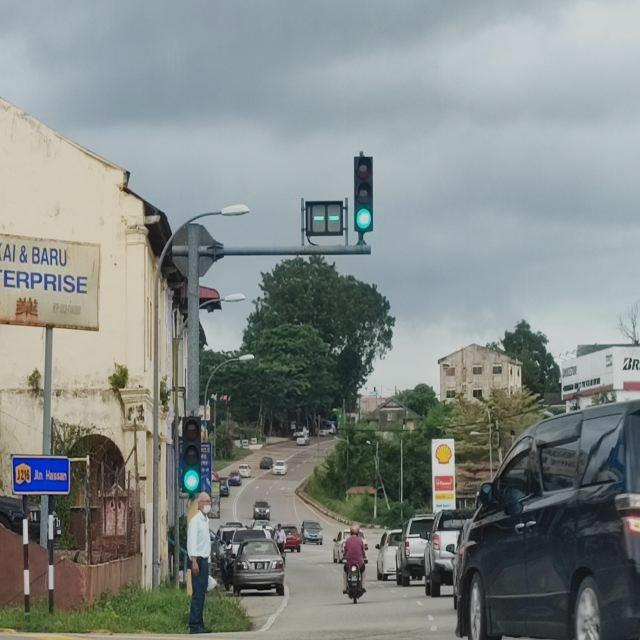Green: (182, 416, 202, 492), (354, 156, 373, 232)
